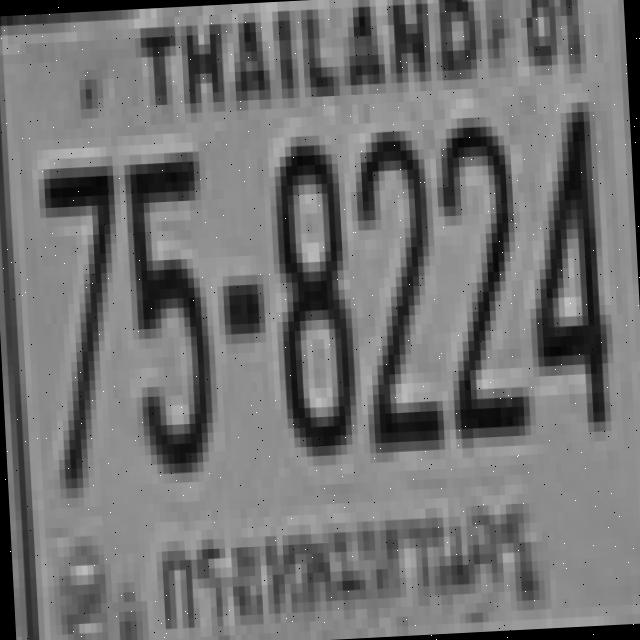2: (436, 107, 522, 430), (354, 126, 439, 448)
4: (520, 102, 612, 425)
5: (120, 147, 212, 461)
7: (37, 152, 129, 484), (37, 156, 126, 431), (38, 156, 124, 373)
8: (268, 134, 352, 448)
Bangkok: (146, 496, 547, 627)
